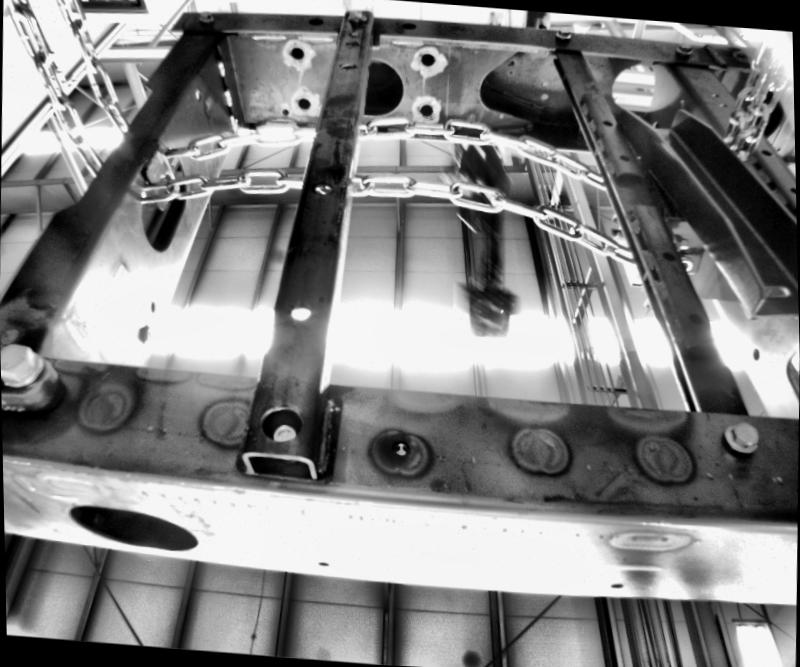bolt: (1, 336, 44, 399), (722, 420, 766, 454), (132, 321, 155, 347), (674, 38, 693, 57), (552, 24, 574, 40), (195, 8, 214, 26), (347, 7, 365, 21)
bracket: (140, 134, 188, 218)
hole: (58, 498, 210, 555), (604, 54, 660, 113), (263, 402, 302, 444), (286, 300, 312, 325), (388, 436, 412, 460), (312, 180, 334, 197), (288, 45, 306, 62), (416, 102, 434, 118), (660, 247, 676, 264), (296, 95, 312, 112), (340, 57, 358, 70), (688, 311, 702, 326), (420, 52, 435, 66), (749, 347, 763, 362), (307, 15, 326, 26), (610, 579, 623, 592), (317, 557, 331, 568), (602, 117, 614, 128), (400, 22, 416, 30), (786, 184, 795, 196), (150, 300, 158, 313), (620, 153, 630, 161), (761, 148, 771, 156), (349, 30, 358, 38), (708, 90, 719, 96), (282, 108, 289, 114), (718, 104, 728, 108)
welding: (214, 58, 228, 78), (222, 87, 234, 107), (228, 113, 239, 132)
